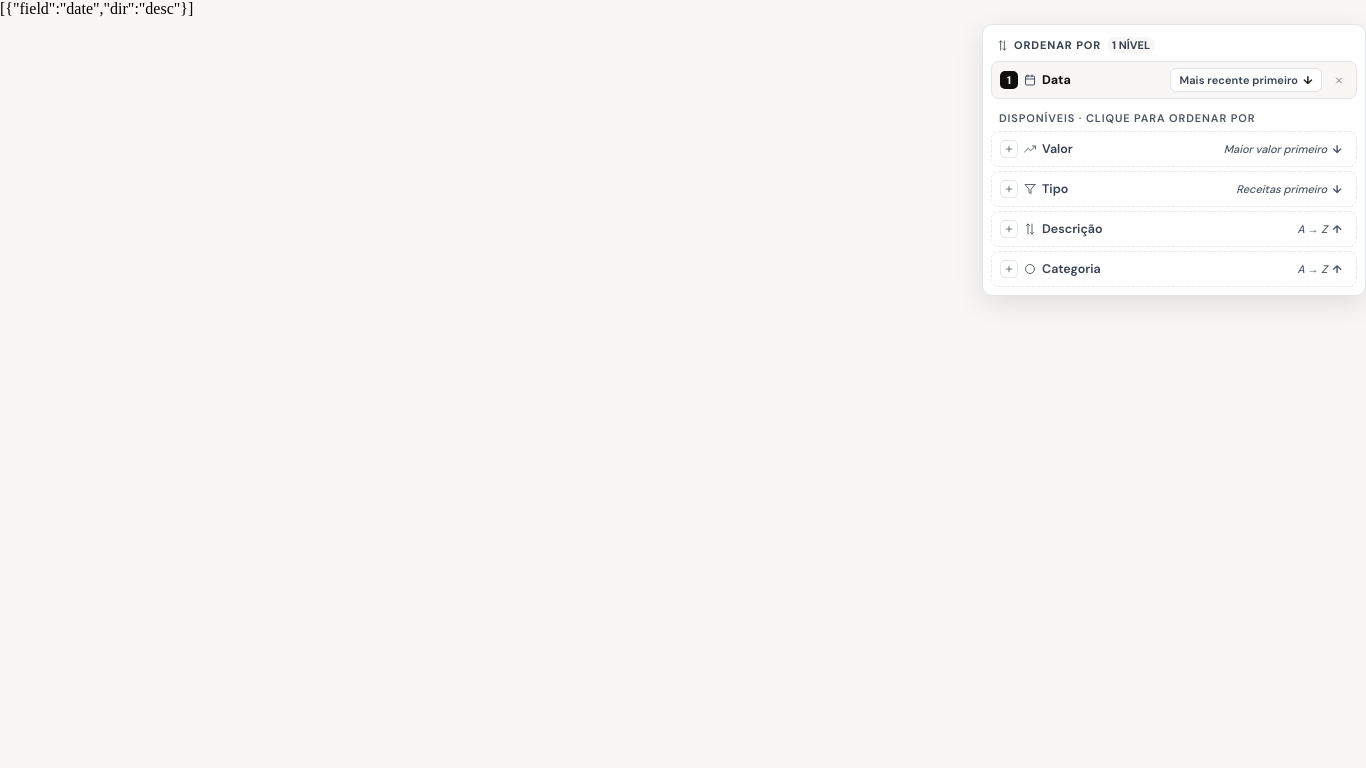
Scenario: <SortMenu> › toggle de direção inverte (Mais recente ↓ → Mais antiga ↑)
Click the button with aria-label "Inverter direção de Data" at (1246, 80), box [1170,68,1322,92]
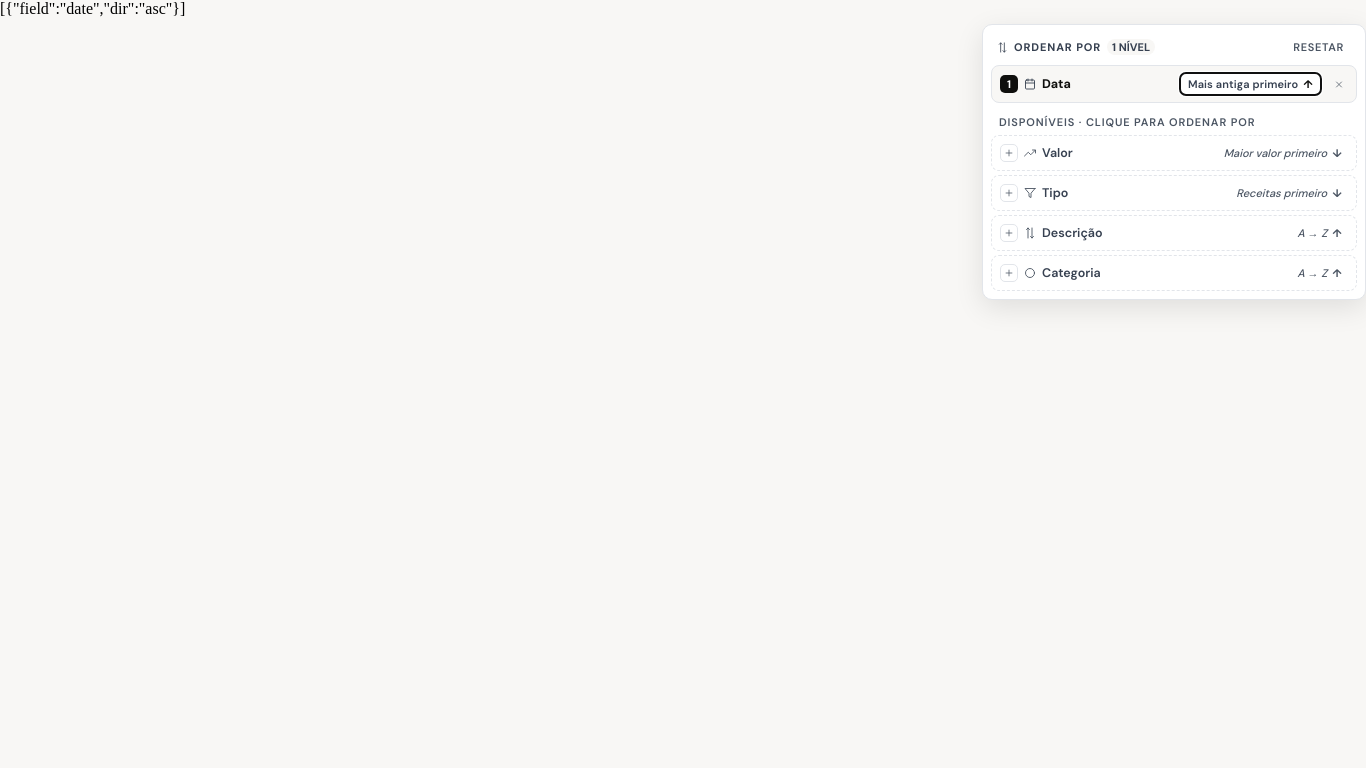
Expected: the button with aria-label "Inverter direção de Data" shows "Mais antiga primeiro", [1179,72,1322,96]
